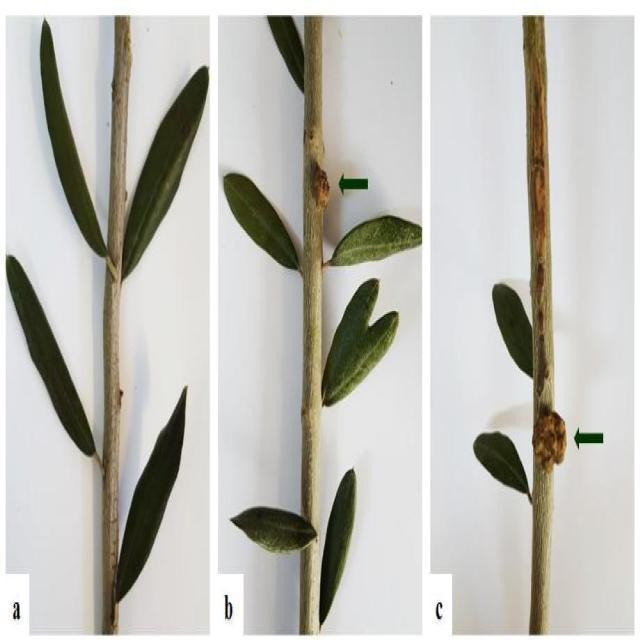Tuberculosis: (533, 404, 565, 472), (310, 159, 330, 209)
